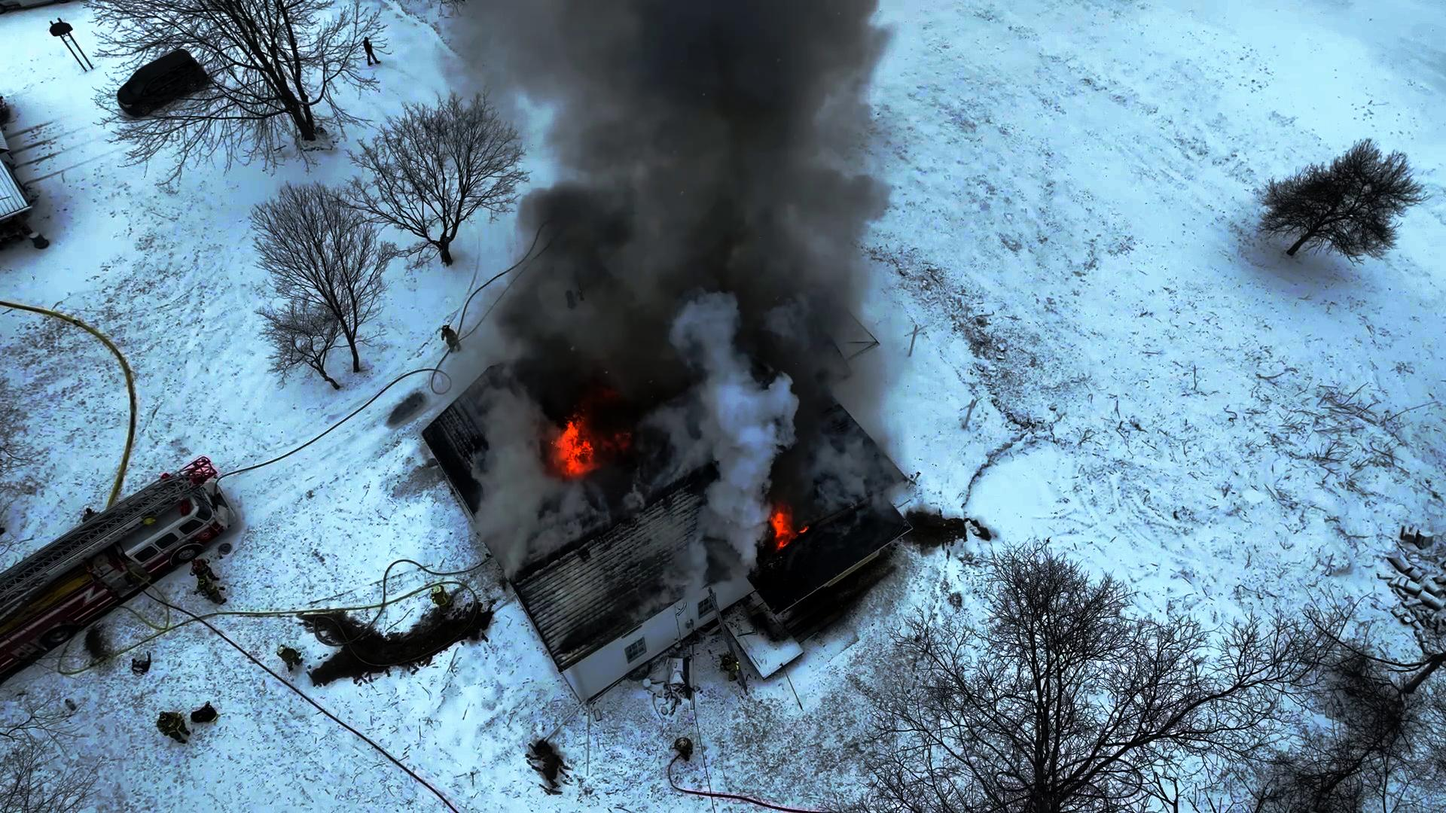fire: (545, 367, 636, 478)
smoke: (620, 20, 753, 431)
